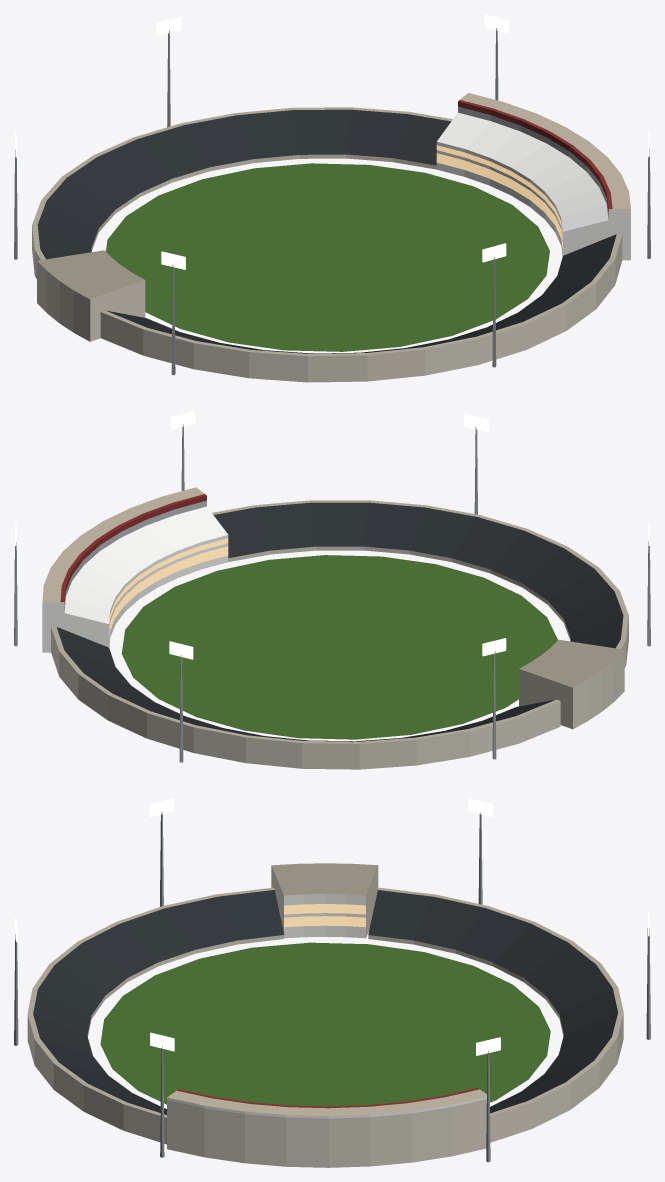
File: rawalpindi_cricket_stadium_far.glb
3 views of the same model, one above another, from view 1: azimuth 30°, elevation 25°; view 2: azimuth 150°, elevation 25°; view 3: azimuth 270°, elevation 25° (orthographic). The views are drawn at different scales.
Visible parts, largest first — view 1: m_outfield, m_seat_dark, m_stand_wall, m_pavilion_chairs, m_concrete_ring, m_flat_roof, m_pavilion_white, m_pavilion_roof, m_glazing_dark, m_mast_steel, m_mast_lamps, m_gangway_red (+1 smaller); view 2: m_outfield, m_seat_dark, m_stand_wall, m_pavilion_chairs, m_concrete_ring, m_flat_roof, m_pavilion_white, m_pavilion_roof, m_mast_steel, m_glazing_dark, m_mast_lamps, m_gangway_red (+1 smaller); view 3: m_outfield, m_seat_dark, m_stand_wall, m_concrete_ring, m_pavilion_white, m_flat_roof, m_pavilion_roof, m_mast_steel, m_glazing_dark, m_mast_lamps, m_gangway_red.
Part boxes in pixels (box(x1,y1,x2,y2)): m_outfield: box(106, 163, 549, 351); m_seat_dark: box(37, 109, 616, 353); m_stand_wall: box(32, 154, 622, 382); m_pavilion_chairs: box(436, 112, 608, 255); m_concrete_ring: box(32, 107, 622, 356); m_flat_roof: box(37, 250, 144, 299); m_pavilion_white: box(436, 142, 630, 260); m_pavilion_roof: box(460, 93, 630, 208); m_glazing_dark: box(436, 145, 562, 251); m_mast_steel: box(14, 28, 650, 375); m_mast_lamps: box(15, 14, 649, 269); m_gangway_red: box(458, 100, 612, 213); m_outfield: box(121, 555, 557, 739); m_seat_dark: box(56, 502, 623, 741); m_stand_wall: box(51, 546, 628, 769); m_pavilion_chairs: box(64, 506, 228, 646); m_concrete_ring: box(51, 500, 628, 743); m_flat_roof: box(519, 639, 624, 687); m_pavilion_white: box(42, 535, 228, 652); m_pavilion_roof: box(42, 487, 204, 602); m_mast_steel: box(14, 424, 650, 762); m_glazing_dark: box(109, 538, 228, 639); m_mast_lamps: box(15, 411, 649, 659); m_gangway_red: box(60, 494, 206, 603); m_outfield: box(100, 942, 550, 1106); m_seat_dark: box(33, 890, 617, 1114); m_stand_wall: box(27, 865, 623, 1167); m_concrete_ring: box(27, 887, 623, 1117); m_pavilion_white: box(167, 894, 486, 1118); m_flat_roof: box(271, 863, 377, 895); m_pavilion_roof: box(167, 1089, 486, 1115); m_mast_steel: box(14, 812, 650, 1162); m_glazing_dark: box(284, 904, 365, 927); m_mast_lamps: box(14, 798, 649, 1055); m_gangway_red: box(177, 1088, 479, 1108).
Bounding box in the file's own units: 222 × 48.01 × 229.
